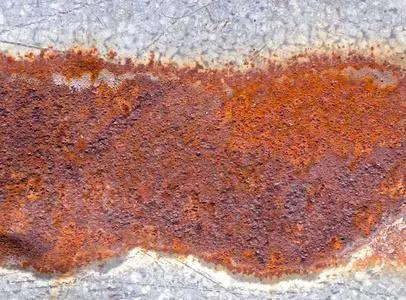Corrosion: (1, 40, 406, 286)
